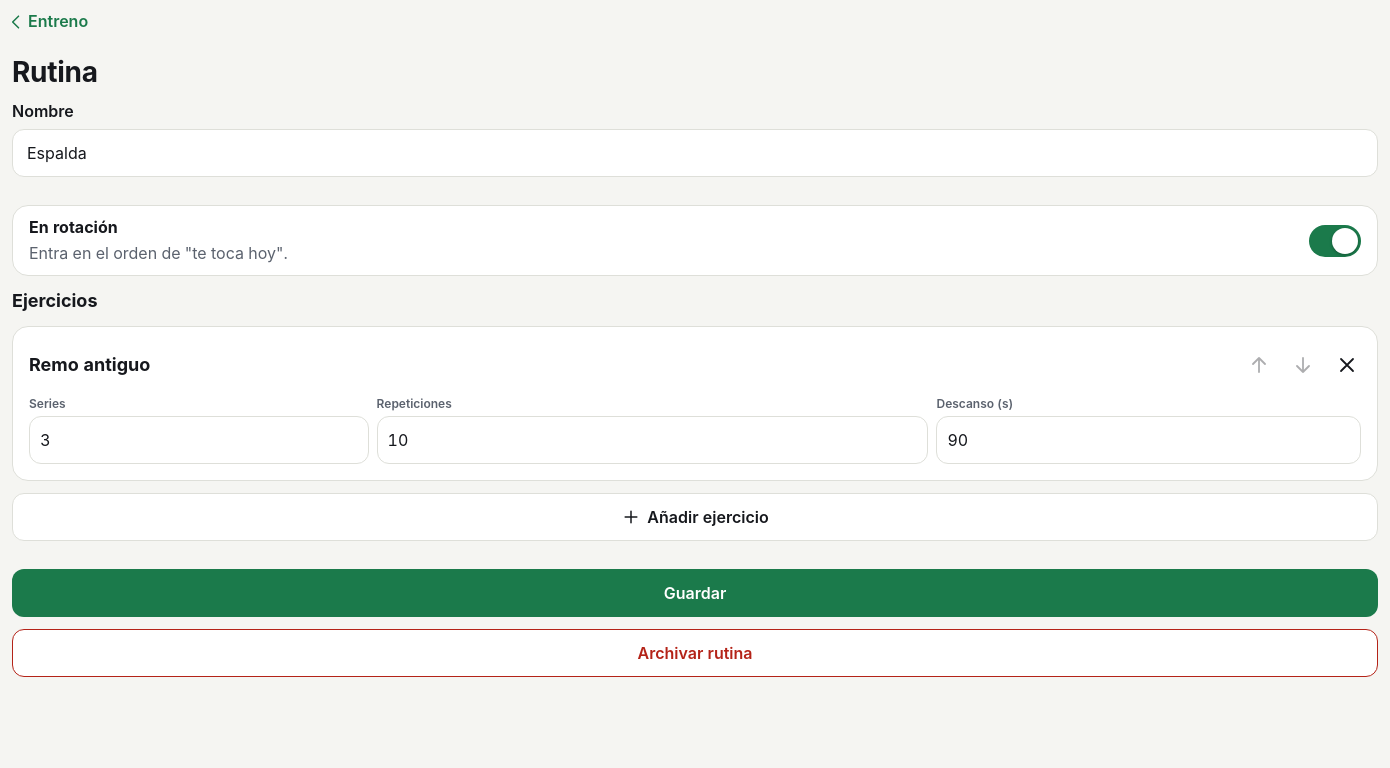
Editor de rutina: guardar › el interruptor En rotación se envía; al apagarlo se conserva rotationOrder
expect the field labelled "Nombre" is shown: met, box [12,129,1378,177]
What coordinates should you click on to do the following:
click the switch labelled "En rotación"
I would click on:
 (73, 227)
Its box is [12,205,1378,276].
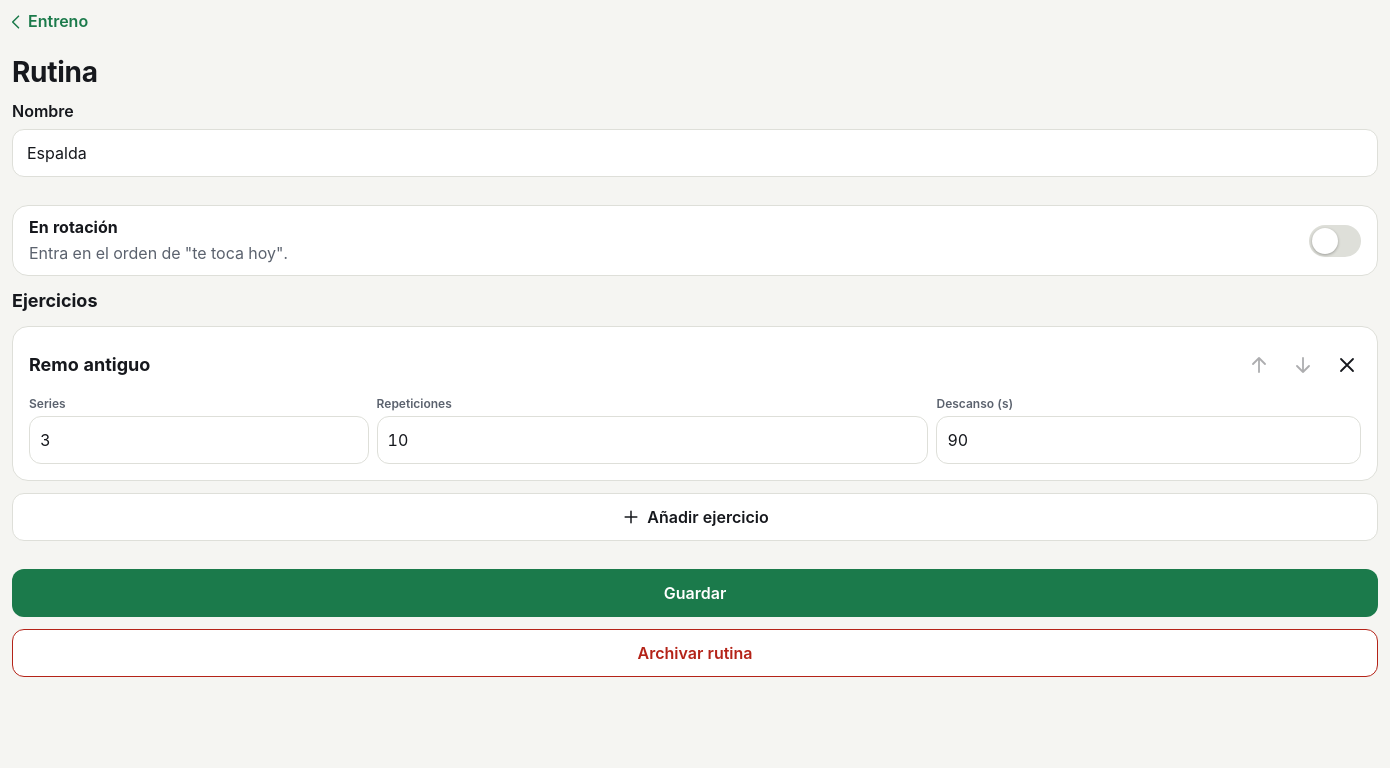
expect the switch labelled "En rotación" is not checked: met, box [12,205,1378,276]
What coordinates should you click on to do the following:
click the button "Guardar"
I would click on:
 (695, 593)
Its box is [12,569,1378,617].
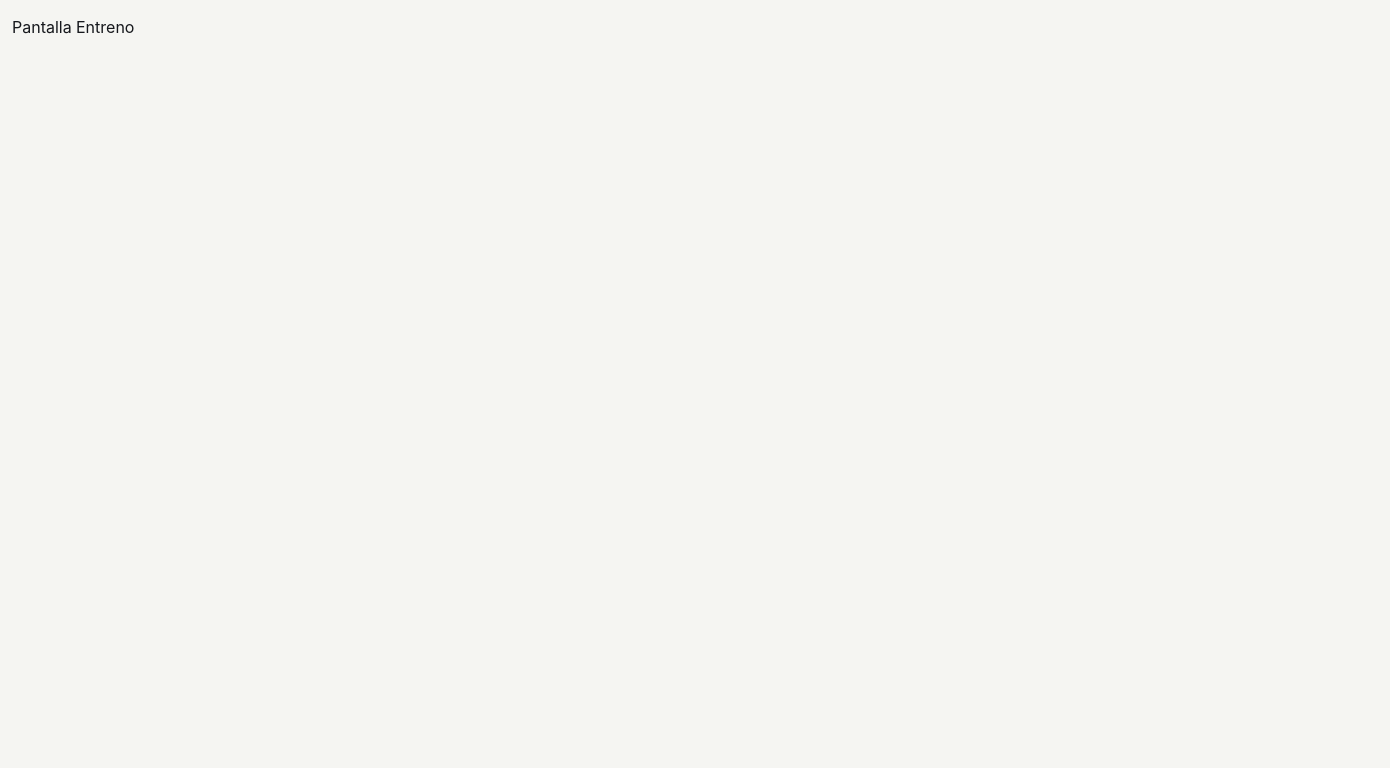
expect the text "Pantalla Entreno" is shown: met, box [12,17,134,37]
